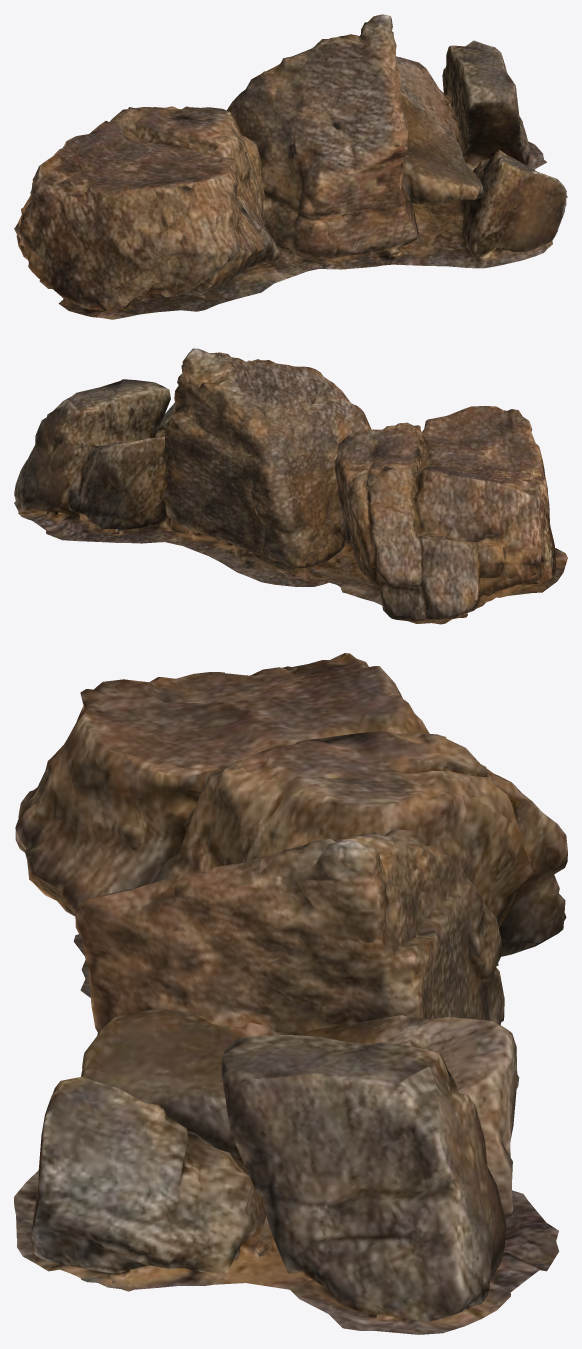
Rendered from rock-sandstone-boulder.79bb9ba9.glb.
The picture shows the model from 3 angles, top to bottom: view 1: azimuth 30°, elevation 25°; view 2: azimuth 150°, elevation 25°; view 3: azimuth 270°, elevation 25°; orthographic projection. The views are drawn at different scales.
Visible parts, largest first — view 1: model; view 2: model; view 3: model.
Part boxes in pixels (left/top/right/bottom): model: left=14, top=14, right=567, bottom=319; model: left=14, top=348, right=567, bottom=624; model: left=14, top=653, right=567, bottom=1334.
Bounding box in the file's own units: 2.53 × 0.8804 × 1.23.
1 material, 1 textured.
